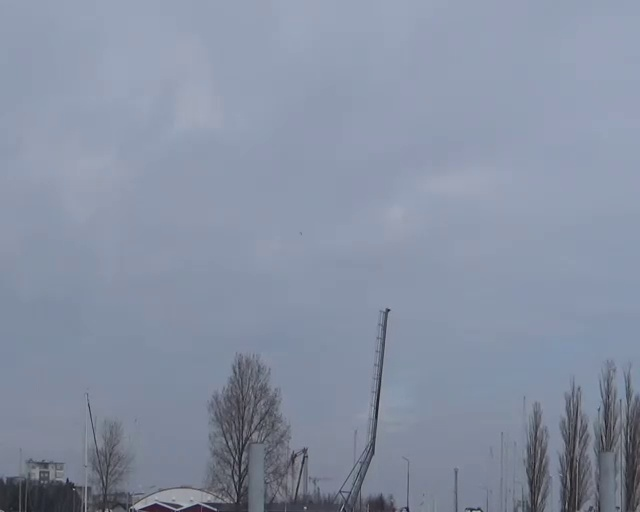BIRD: (297, 226, 306, 237)
